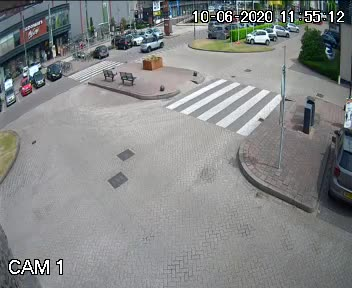car: (136, 33, 162, 50)
